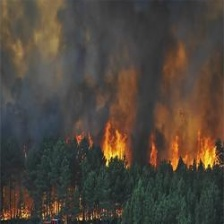fire: (96, 115, 224, 176), (3, 189, 117, 224)
smoke: (4, 6, 207, 98)
